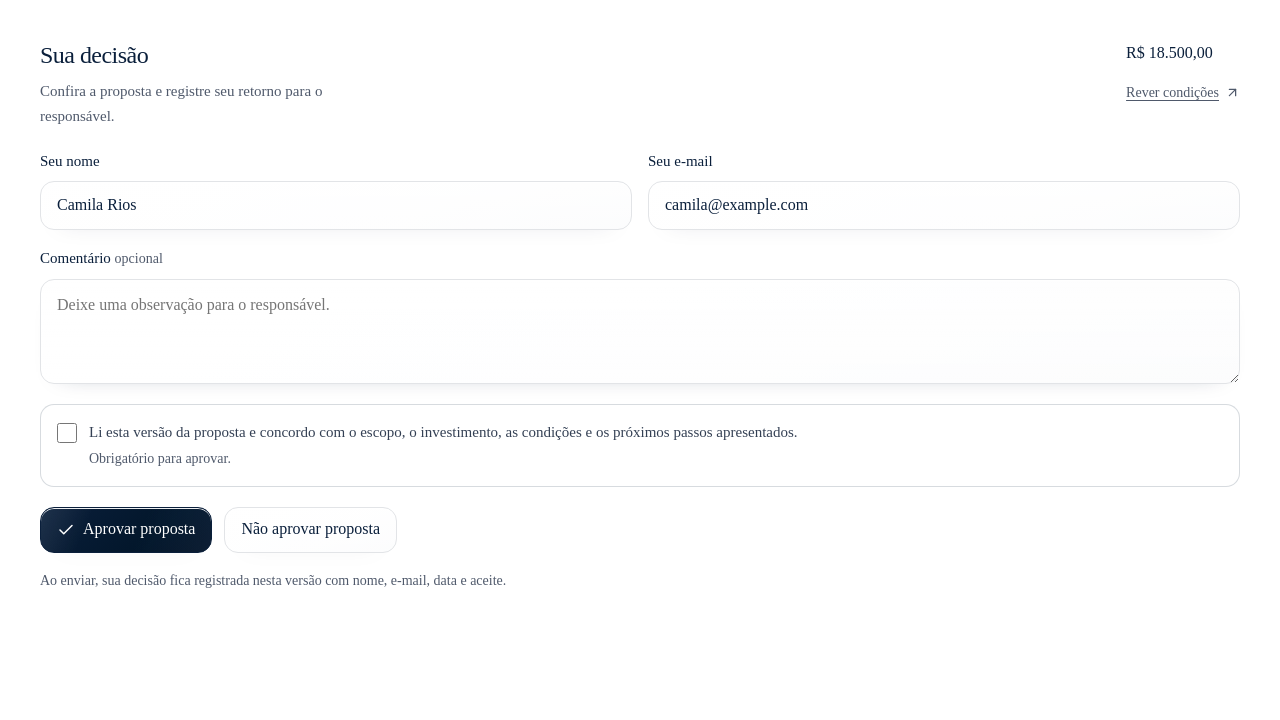
Test: decisão do cliente › bloqueia as duas ações durante o envio e mostra a confirmação com pagamento
The image size is (1280, 720).
Click the checkbox at (67,433), box [57,423,77,443]
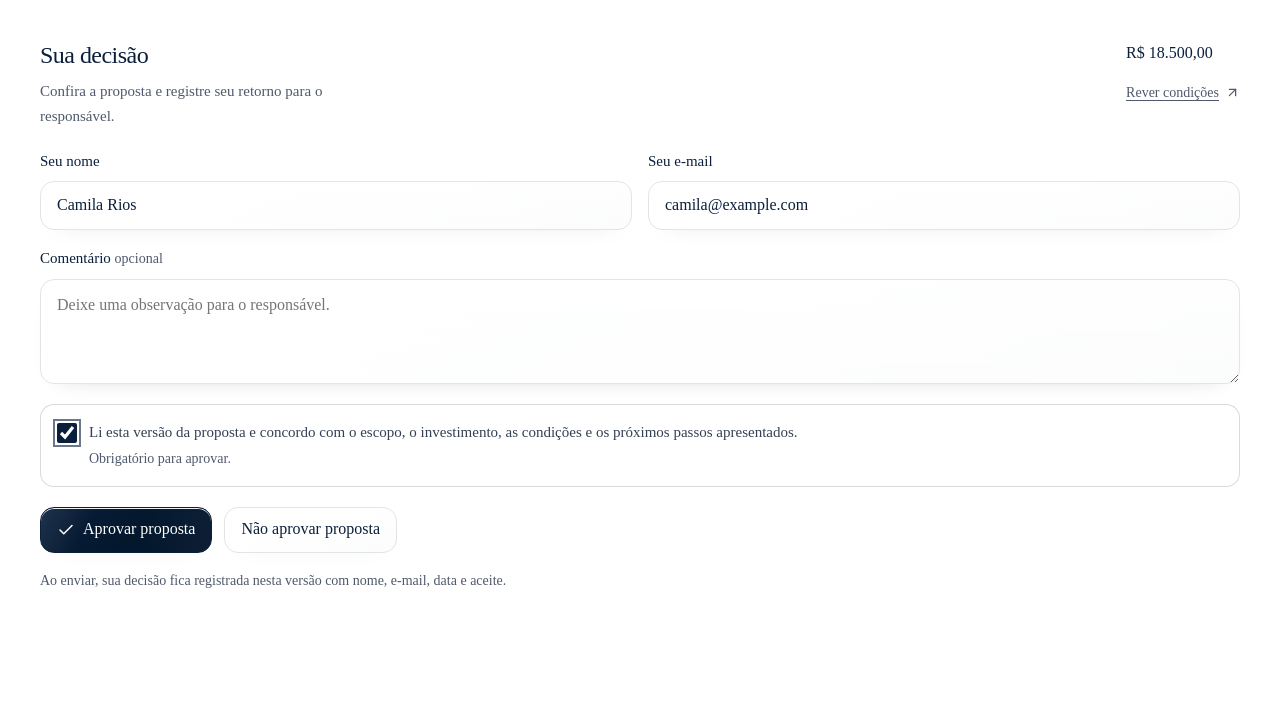
Click the button "Aprovar proposta" at (126,530), box [40,507,212,553]
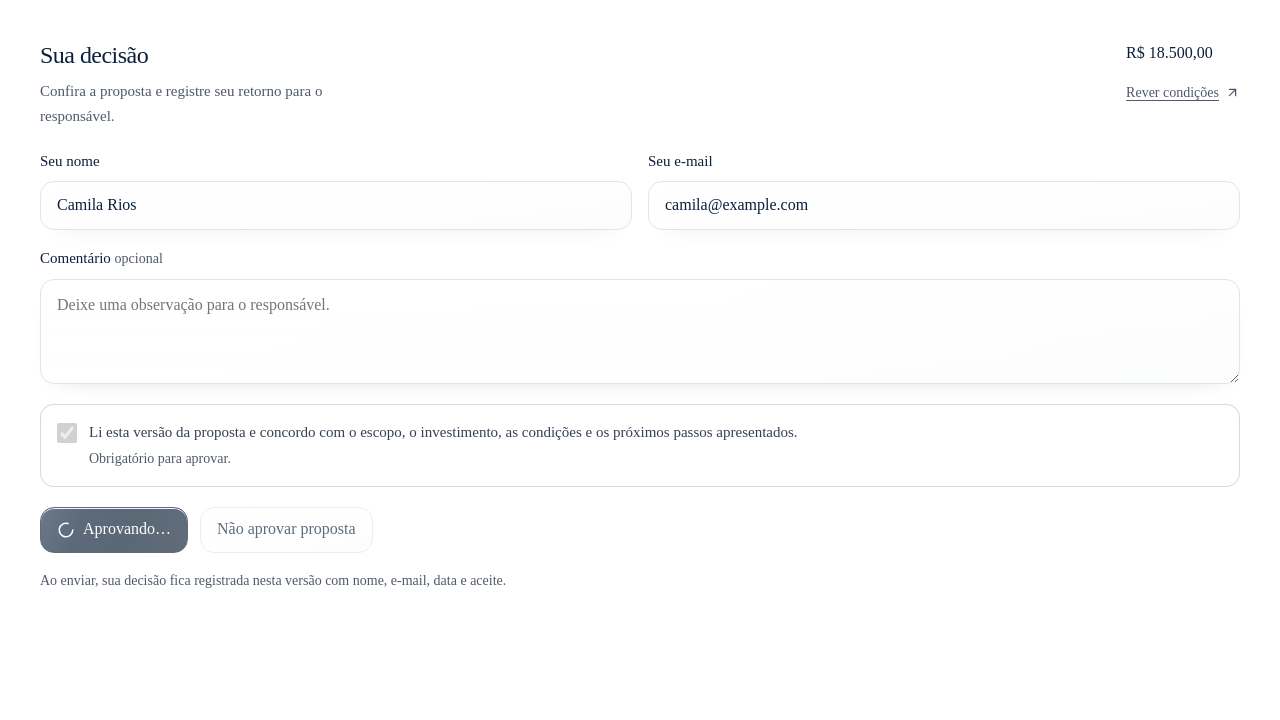
Now the button "Aprovando…" is disabled
Now the button "Não aprovar proposta" is disabled, box [200,507,373,553]
Click the button "Aprovando…" at (114,530), box [40,507,188,553]
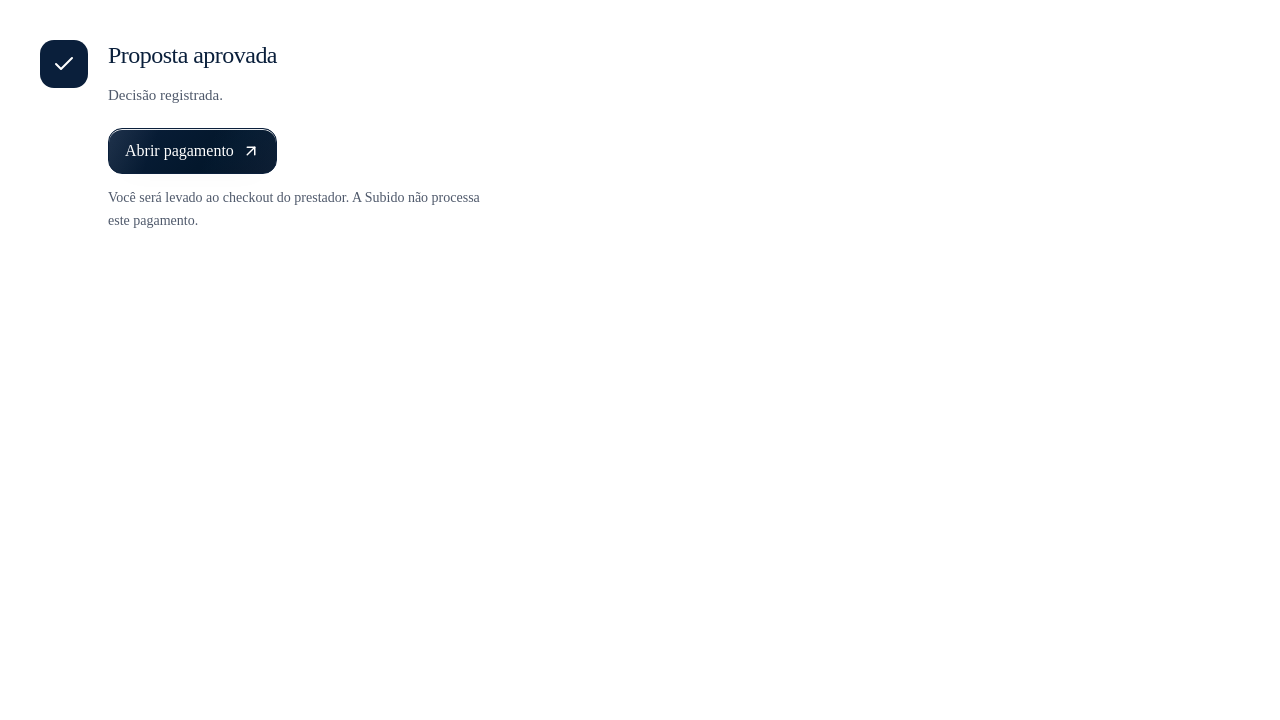
Now the message shows "Proposta aprovada", box [108,42,277,68]
Now the form is gone
